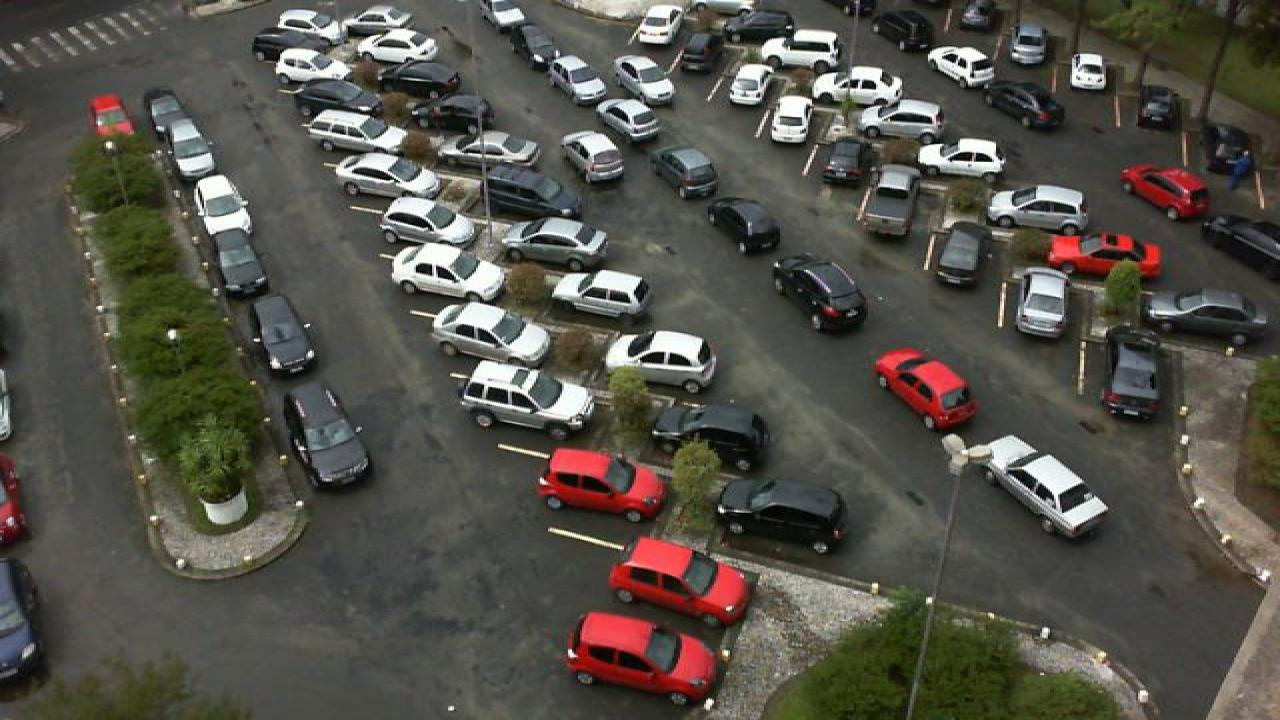Car: (562, 612, 722, 705), (608, 534, 754, 626), (984, 434, 1110, 539), (456, 358, 596, 442), (716, 474, 848, 554), (532, 446, 668, 523), (280, 382, 372, 489), (646, 397, 772, 469), (870, 347, 980, 428), (600, 327, 722, 397), (1138, 286, 1272, 348), (428, 300, 556, 364), (774, 252, 868, 332), (388, 240, 508, 302), (1098, 325, 1172, 421), (500, 215, 612, 271), (482, 162, 586, 222), (1044, 229, 1166, 279), (1114, 162, 1212, 223), (984, 182, 1096, 235), (248, 292, 318, 374), (334, 150, 440, 202), (1200, 213, 1280, 279), (378, 194, 476, 246), (552, 268, 652, 317), (304, 108, 406, 156), (706, 195, 782, 258), (860, 163, 922, 240), (206, 225, 270, 299), (440, 127, 544, 171), (1012, 267, 1072, 341), (932, 219, 996, 288), (982, 78, 1066, 129), (810, 64, 904, 109), (192, 172, 254, 235), (558, 126, 626, 183), (914, 136, 1006, 178), (290, 78, 384, 119), (650, 145, 720, 200), (758, 30, 844, 74), (860, 96, 944, 140), (158, 118, 218, 178), (592, 96, 664, 146), (424, 93, 494, 143), (376, 59, 462, 99), (612, 54, 678, 106), (922, 45, 998, 89), (542, 55, 606, 107), (1218, 105, 1280, 158), (350, 30, 436, 66), (274, 47, 350, 84), (818, 136, 874, 186), (868, 8, 934, 50), (88, 93, 140, 146), (716, 6, 796, 40), (140, 87, 196, 134), (340, 3, 416, 36), (1134, 84, 1188, 130), (250, 29, 322, 63), (516, 23, 568, 68), (722, 60, 772, 106), (674, 28, 726, 72), (634, 2, 686, 45), (768, 94, 812, 144), (272, 8, 344, 37), (478, 0, 530, 34), (1008, 23, 1048, 66), (1068, 52, 1110, 91), (956, 0, 998, 33)
